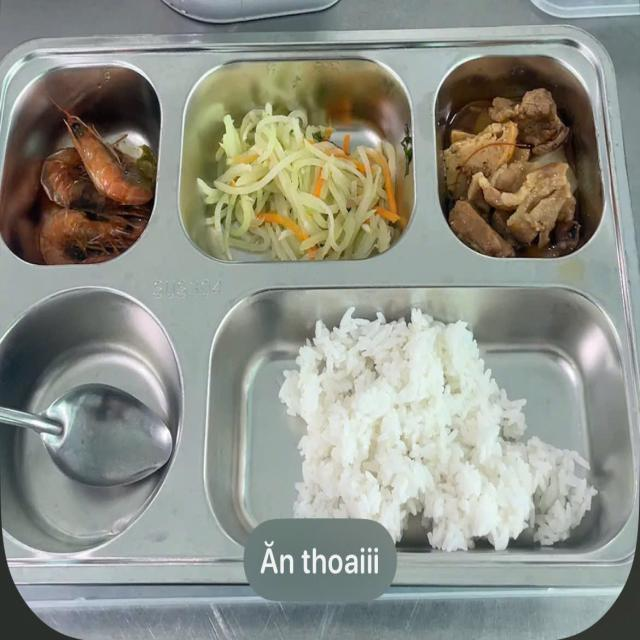com_trang: (274, 313, 600, 535)
thit_kho: (456, 95, 588, 251)
